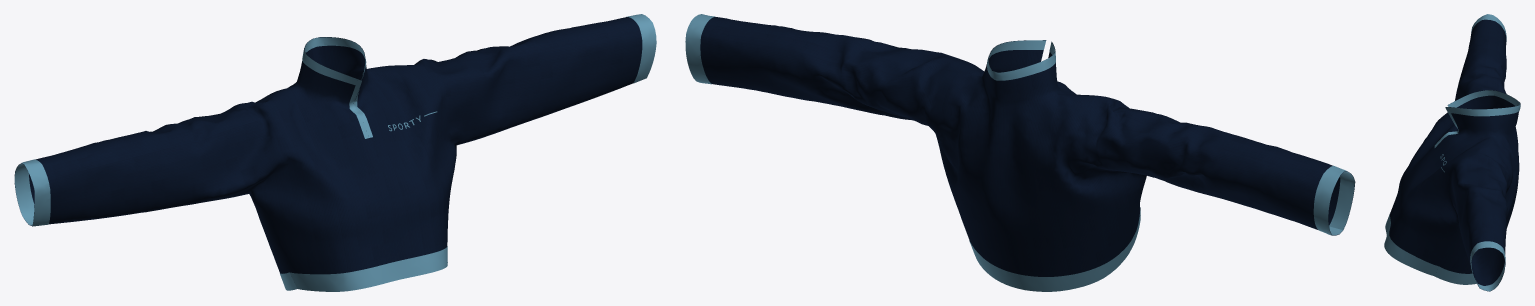
The picture shows the model from 3 angles, left to right: view 1: azimuth 30°, elevation 25°; view 2: azimuth 150°, elevation 25°; view 3: azimuth 270°, elevation 25°; orthographic projection. The views are drawn at different scales.
Visible parts, largest first — view 1: BodyTop; view 2: BodyTop; view 3: BodyTop.
Part boxes in pixels (x1=…): BodyTop: x1=14, y1=14, x2=656, y2=291; BodyTop: x1=685, y1=14, x2=1355, y2=291; BodyTop: x1=1384, y1=14, x2=1520, y2=291.
Bounding box in the file's own units: 0.9668 × 0.333 × 0.2417.
Materials: 15 (15 with a texture image).
